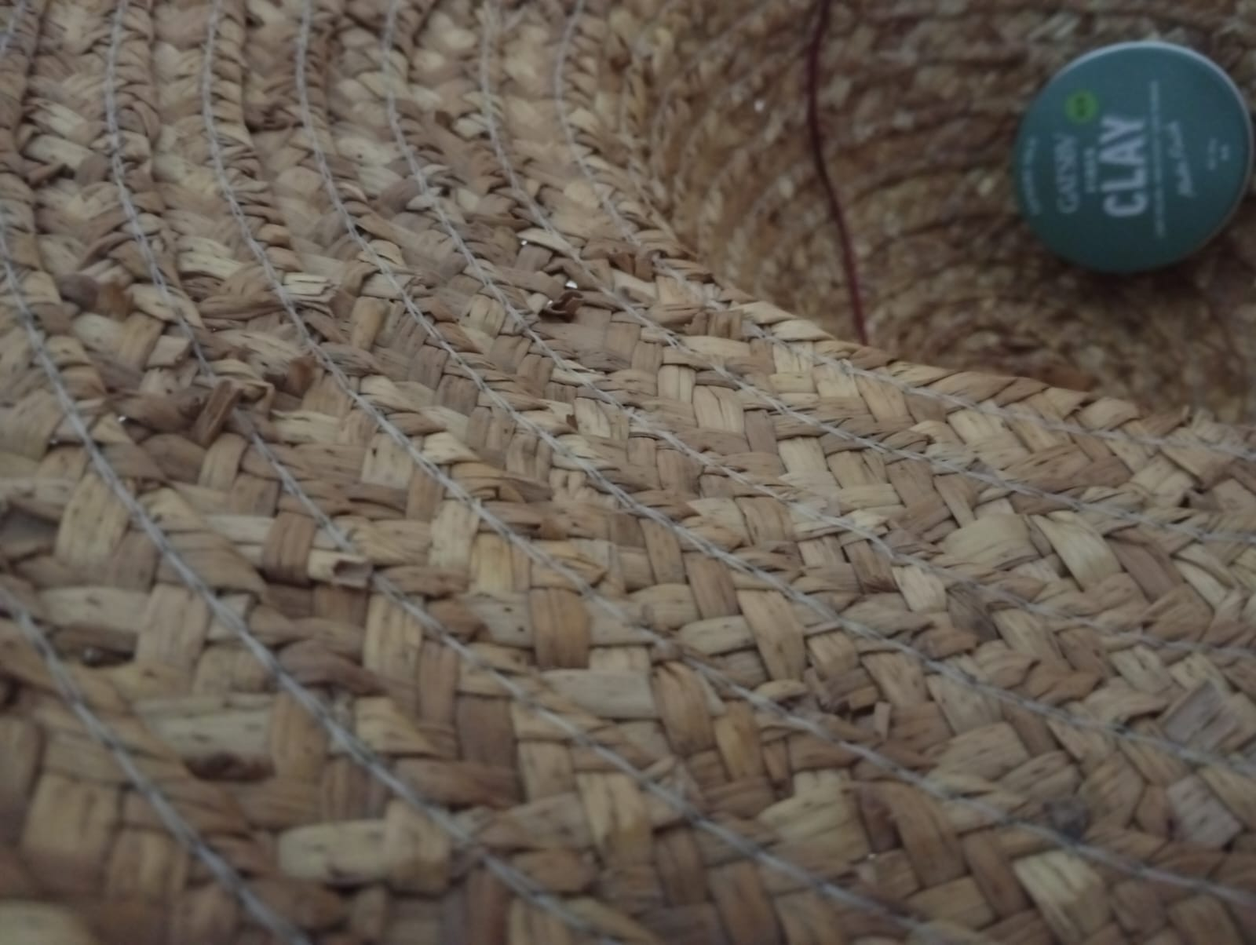Minyak_Rambut: (960, 28, 1253, 307)
